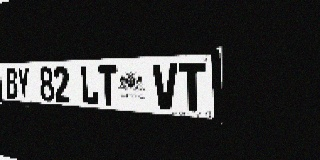2: (53, 66, 70, 103)
8: (39, 67, 55, 102)
B: (5, 68, 18, 99)
L: (80, 65, 99, 105)
T: (178, 62, 207, 112), (98, 65, 118, 106)
V: (153, 63, 178, 110)
Y: (17, 67, 31, 100)
